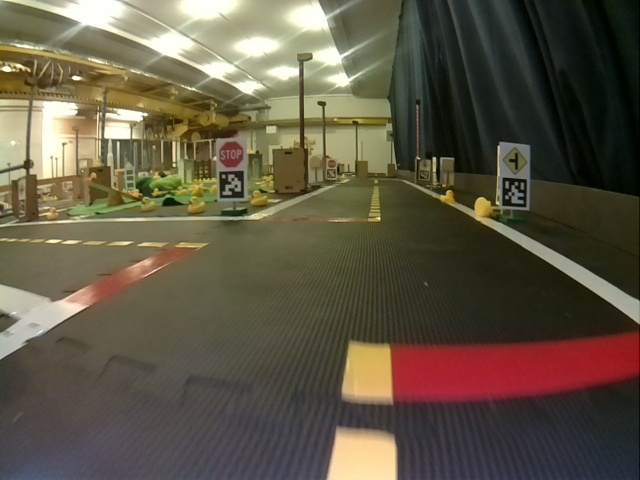Duckie: (475, 197, 492, 215), (188, 196, 204, 213), (251, 191, 268, 205), (141, 198, 156, 211), (441, 190, 455, 203), (48, 206, 59, 220)
Intersection sign: (500, 144, 529, 176)
QR code: (218, 171, 245, 200), (502, 177, 528, 206), (419, 171, 429, 180), (327, 170, 336, 179)
Stop sign: (219, 141, 245, 169), (327, 159, 336, 168)
